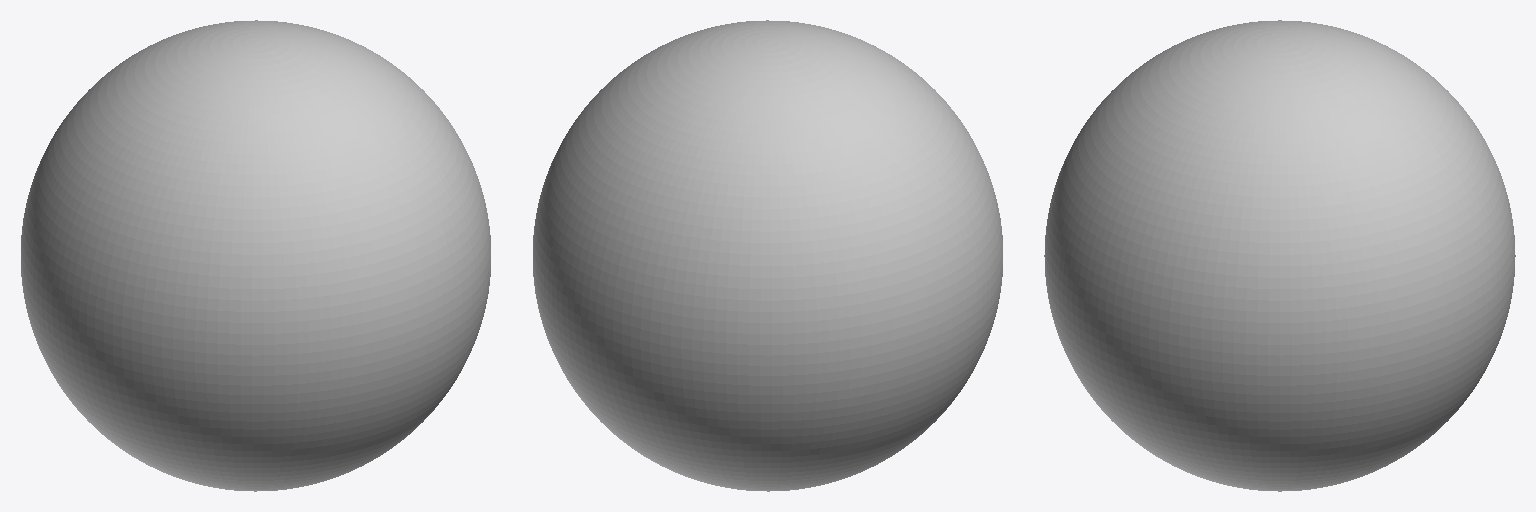
File: earth.obj
3 views of the same model, side by side, from view 1: azimuth 30°, elevation 25°; view 2: azimuth 150°, elevation 25°; view 3: azimuth 270°, elevation 25° (orthographic).
Parts seen in each view (by area): view 1: map1; view 2: map1; view 3: map1.
Part boxes in pixels (left/top/right/bottom): map1: left=21, top=20, right=490, bottom=491; map1: left=533, top=20, right=1002, bottom=491; map1: left=1044, top=20, right=1515, bottom=491.
Size of the model in its own units: 6.37 by 6.37 by 6.37.